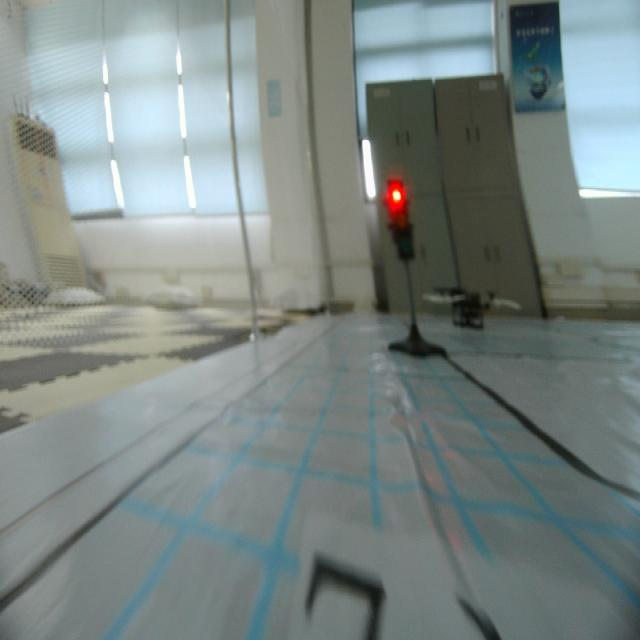red: (378, 173, 418, 265)
